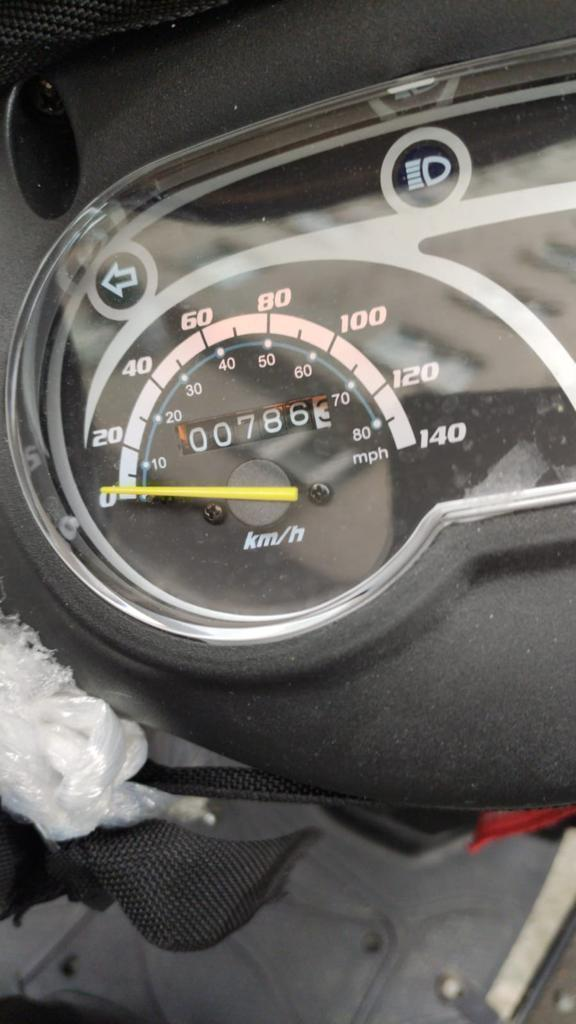0: (188, 426, 208, 453), (212, 421, 232, 448), (173, 408, 182, 422)
3: (316, 397, 333, 421)
6: (288, 401, 309, 426)
7: (236, 413, 255, 440)
8: (261, 408, 282, 433)
odometer: (171, 393, 336, 458)
